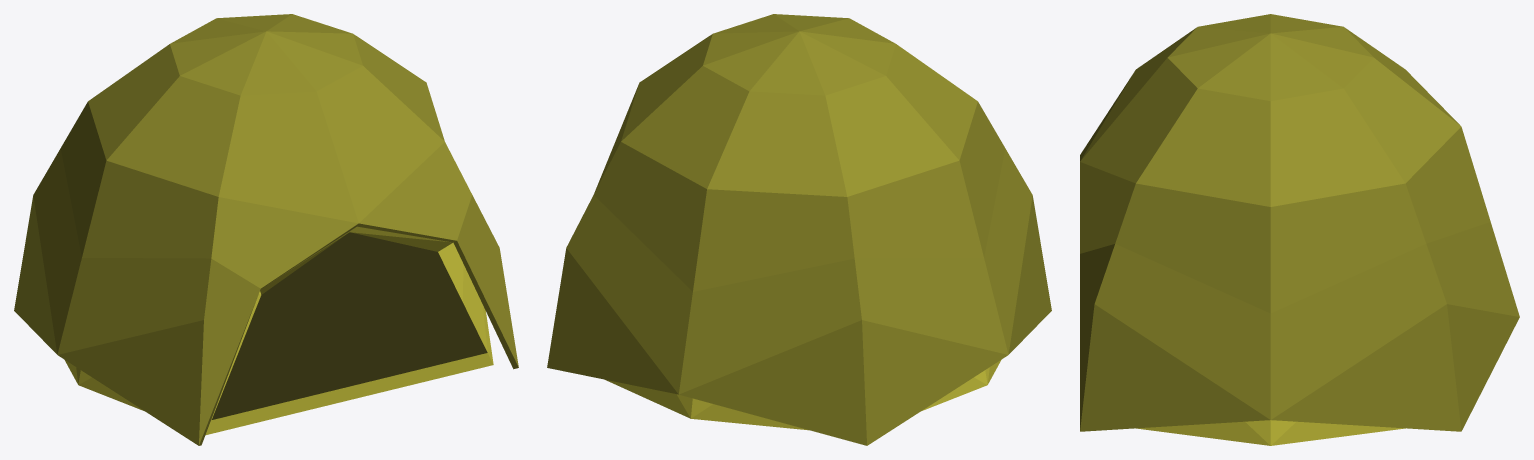
The model's file is Tent_2_Yellow.fbx.
The picture shows the model from 3 angles, left to right: view 1: azimuth 30°, elevation 25°; view 2: azimuth 150°, elevation 25°; view 3: azimuth 270°, elevation 25°; orthographic projection. The views are drawn at different scales.
Visible parts, largest first — view 1: Tent_2_Yellow; view 2: Tent_2_Yellow; view 3: Tent_2_Yellow.
Part boxes in pixels (box(x1,y1,x2,y2)): Tent_2_Yellow: box(14, 14, 518, 445); Tent_2_Yellow: box(547, 14, 1051, 445); Tent_2_Yellow: box(1080, 14, 1519, 445).
Size of the model in its own units: 259 by 183 by 228.
